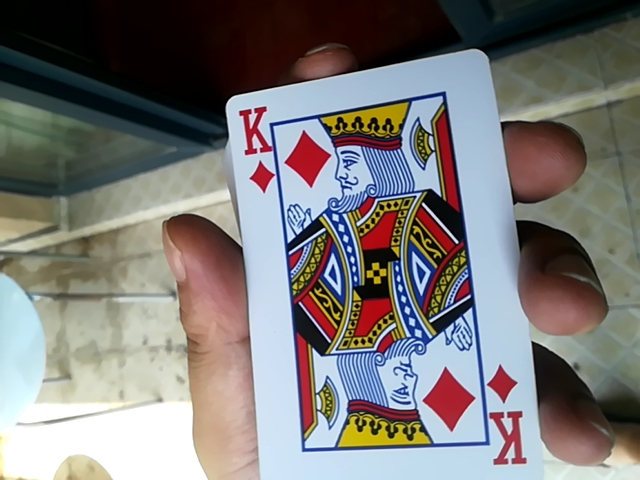fk k: (224, 53, 535, 472)
